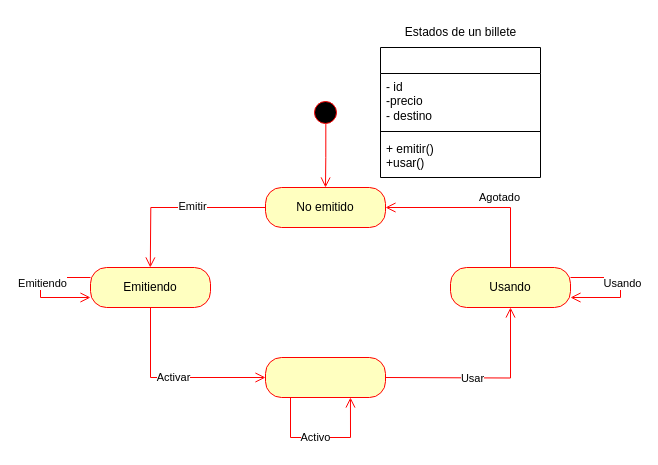
The diagram is 658 pixels wide and 465 high, and some of its shapes have lost their labels. The shapes that lost their labels are listed below. From the top down, each one's box as (x1, y1, x2, y2) in pixels, then its label:
(380, 46, 540, 178): Billete
(264, 356, 386, 398): Validado
